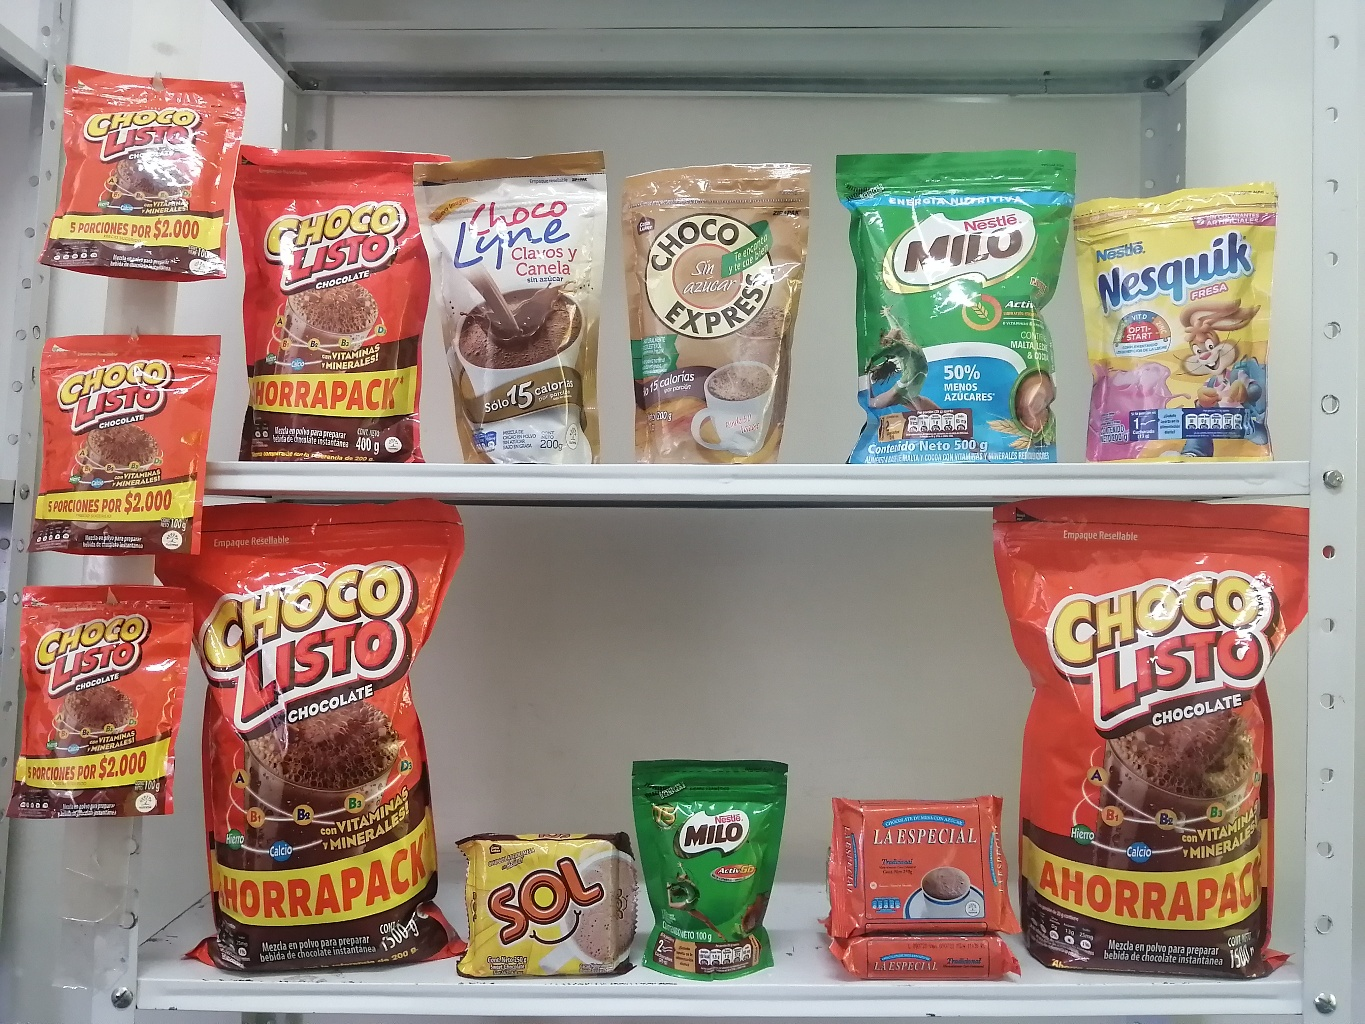COL0170103DYP1,500: (986, 493, 1322, 991)
COL0170103DYP10000: (14, 551, 217, 833)
COL0170103DYP40000: (221, 120, 454, 472)
COL0170203DYP10000: (609, 730, 799, 1004)
COL0170205DYP50000: (817, 132, 1090, 481)
COL0170305DYP20000: (1053, 166, 1318, 470)
